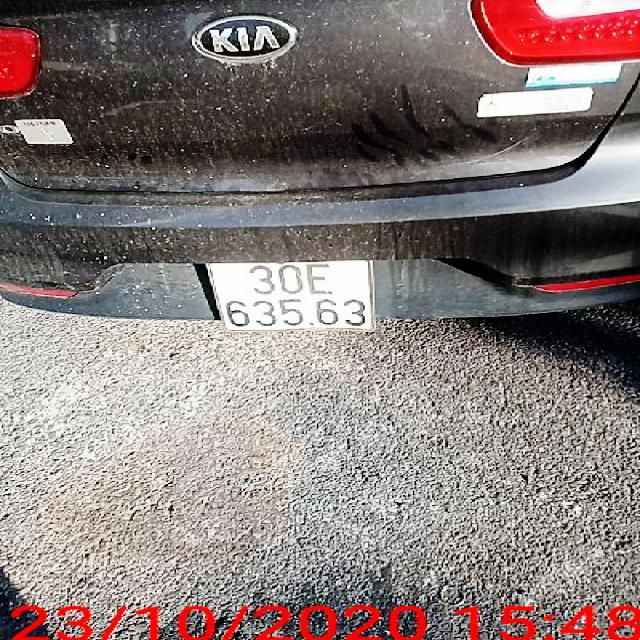license_plate: (211, 260, 378, 331)
